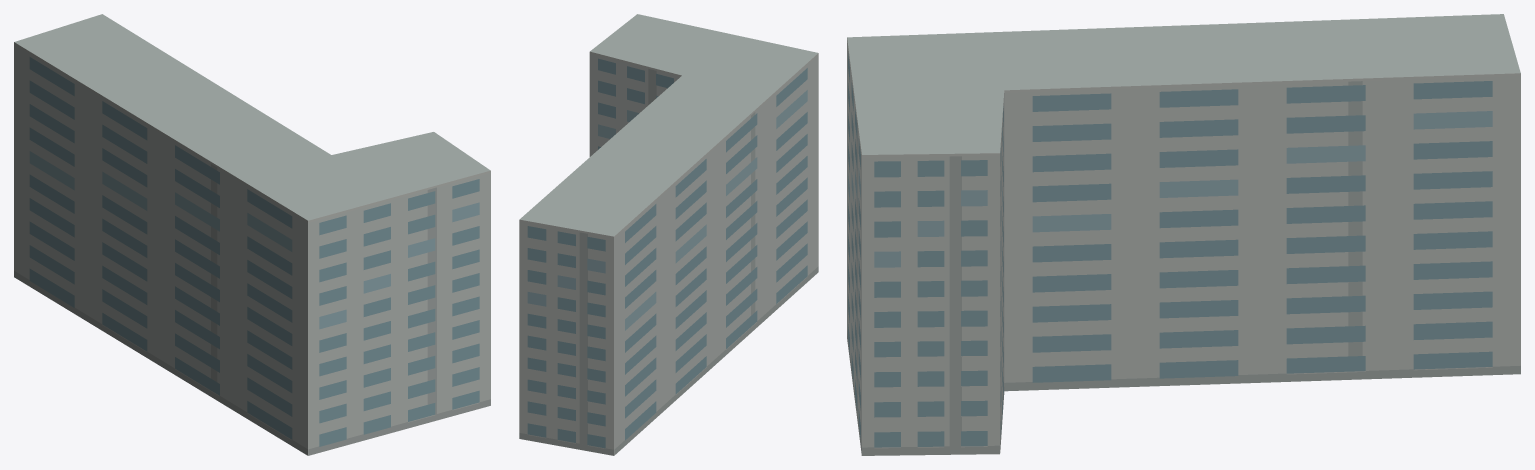
The model's file is residential-efa4e14d-37f7-40fb-a416-a723b895529b.glb.
3 renders of one model, left to right at view 1: azimuth 30°, elevation 25°; view 2: azimuth 150°, elevation 25°; view 3: azimuth 270°, elevation 25°, orthographic. The views are drawn at different scales.
Visible parts, largest first — view 1: residential-efa4e14d-37f7-40fb-a416-a723b895529b.tmp; view 2: residential-efa4e14d-37f7-40fb-a416-a723b895529b.tmp; view 3: residential-efa4e14d-37f7-40fb-a416-a723b895529b.tmp.
Part boxes in pixels (x1=…): residential-efa4e14d-37f7-40fb-a416-a723b895529b.tmp: x1=14, y1=14, x2=490, y2=455; residential-efa4e14d-37f7-40fb-a416-a723b895529b.tmp: x1=519, y1=14, x2=818, y2=455; residential-efa4e14d-37f7-40fb-a416-a723b895529b.tmp: x1=847, y1=14, x2=1520, y2=455.
Bounding box in the file's own units: 28.15 × 28 × 56.83.
